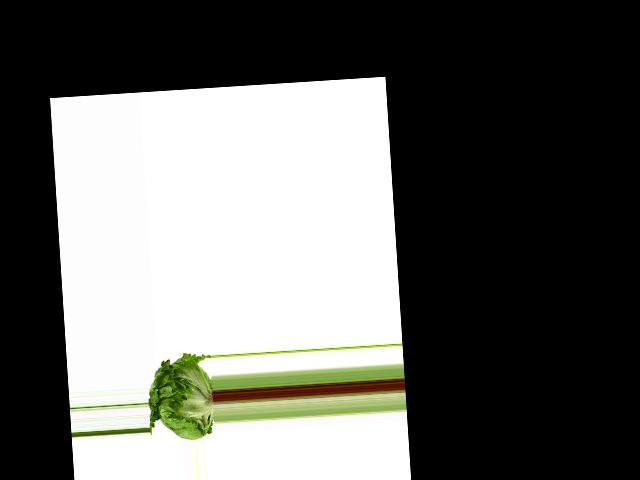lettuce: (145, 348, 216, 444)
